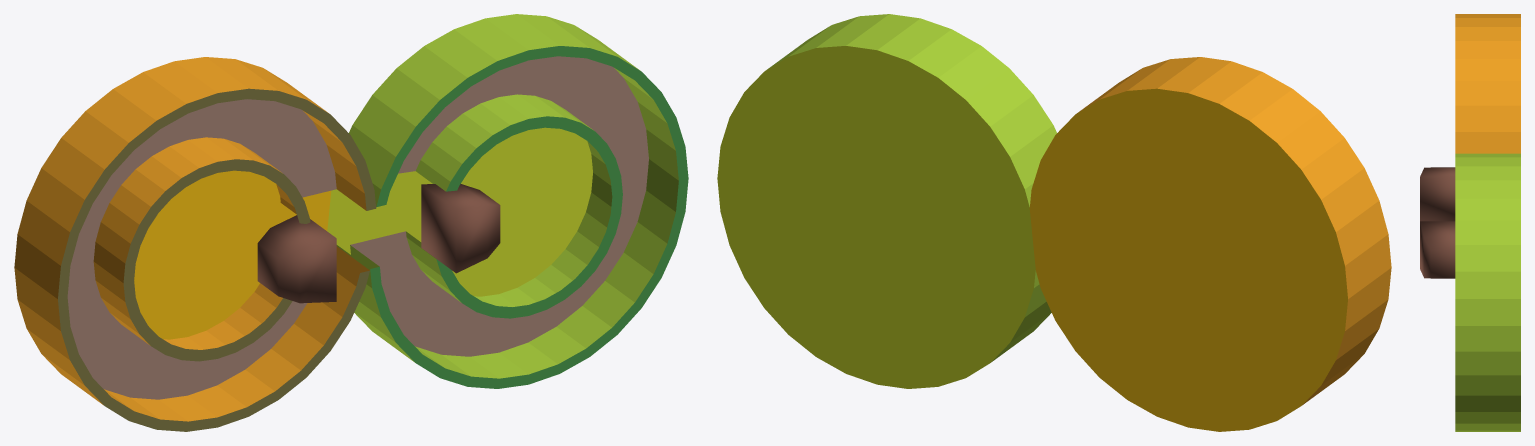
The model's file is BalloonsCont.fbx.
3 renders of one model, left to right at view 1: azimuth 30°, elevation 25°; view 2: azimuth 150°, elevation 25°; view 3: azimuth 270°, elevation 25°, orthographic. The views are drawn at different scales.
Parts seen in each view (by area): view 1: cont yellow, cont green, Pushyellow, Pushgreen; view 2: cont yellow, cont green; view 3: cont green, cont yellow, Pushgreen, Pushyellow.
Boxes of the visible parts, x1,y1,x2,y2 form: cont yellow: (14, 57, 376, 431); cont green: (327, 14, 688, 388); Pushyellow: (257, 215, 336, 303); Pushgreen: (421, 184, 500, 273); cont yellow: (1029, 57, 1391, 431); cont green: (717, 14, 1056, 388); cont green: (1455, 153, 1520, 431); cont yellow: (1455, 14, 1520, 153); Pushgreen: (1420, 221, 1455, 278); Pushyellow: (1420, 167, 1455, 221).
Size of the model in its own units: 517 by 288 by 94.72.
